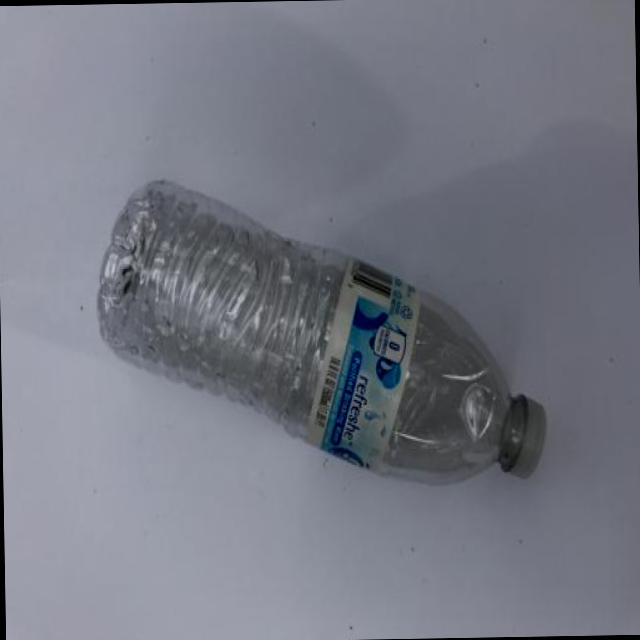Recycle: (99, 164, 551, 503)
